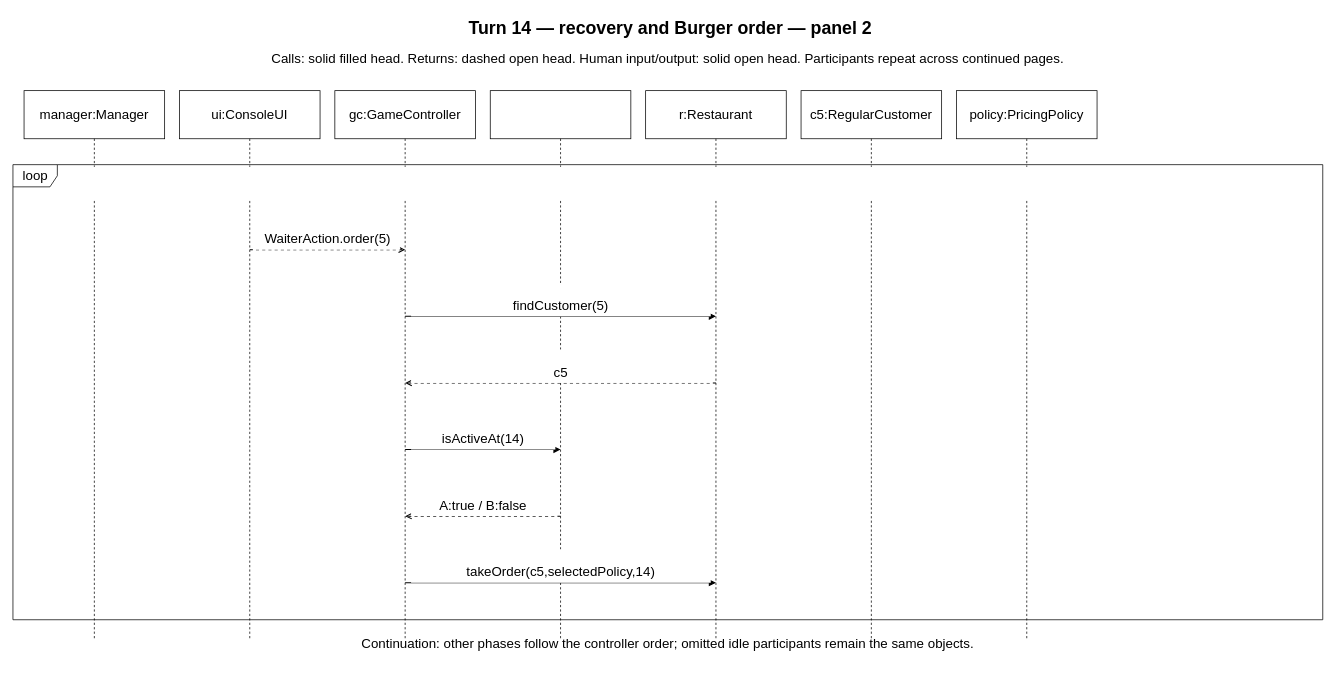
Some shapes in this 1336 by 687 pixel diagram are drawn without their labels. The shapes that lost their labels are listed below. From the top down, each one's box as (x1, y1, x2, y2) in pixels, then its label:
(87, 166, 1311, 200): [for turn = 1..18; detail: turn 14 order and quote] [continued]
(490, 90, 631, 638): hh:HappyHour
